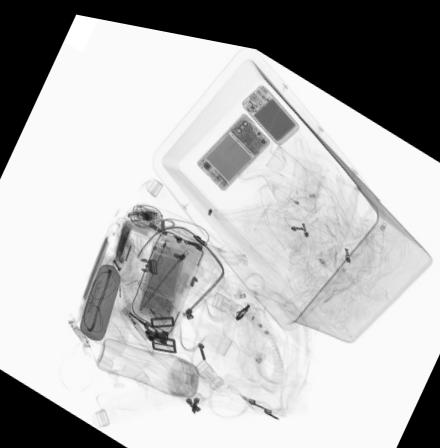Lighter: (122, 302, 149, 336)
